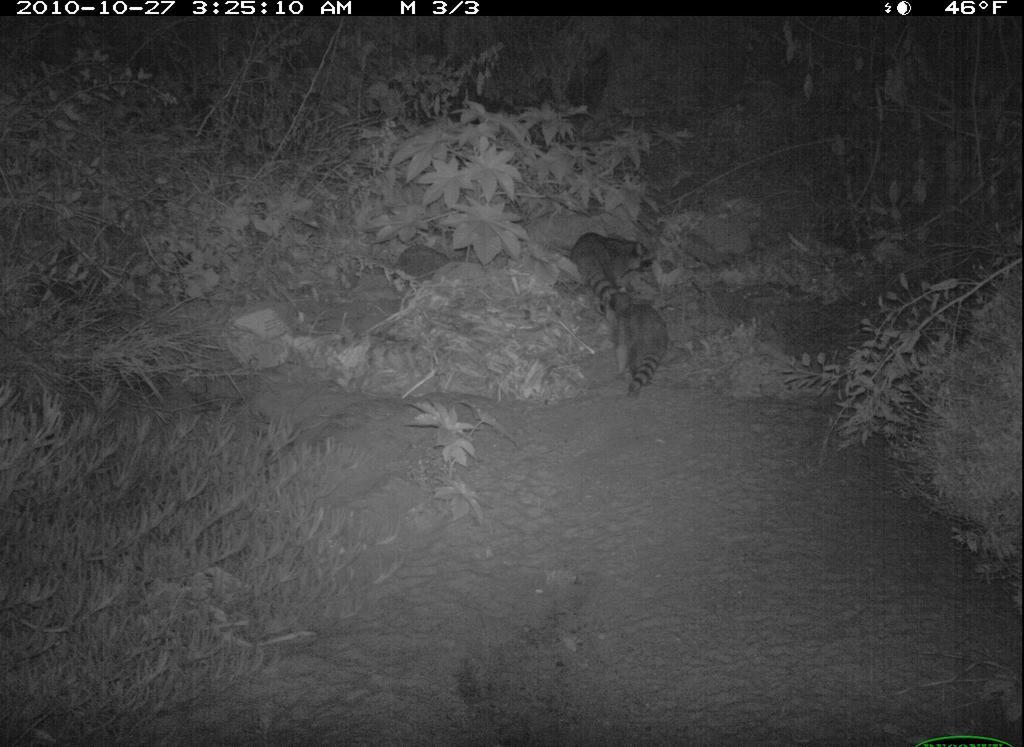raccoon: (566, 221, 679, 308), (603, 291, 680, 414)
